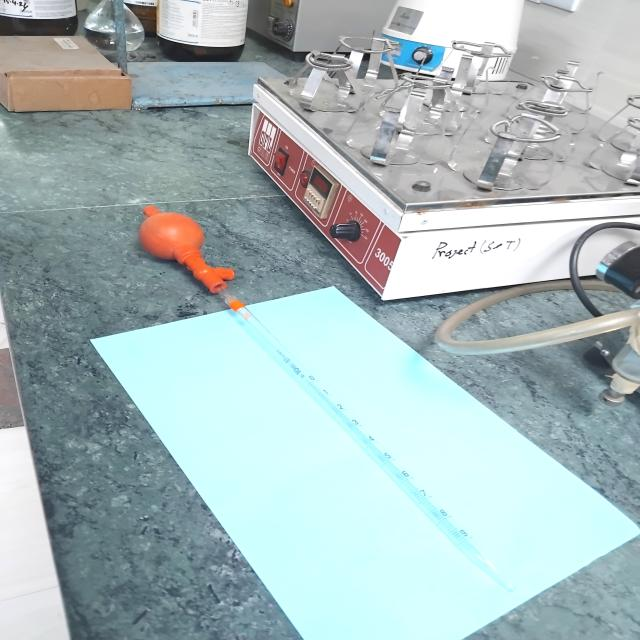Volumetric_Pipet: (87, 191, 601, 640)
